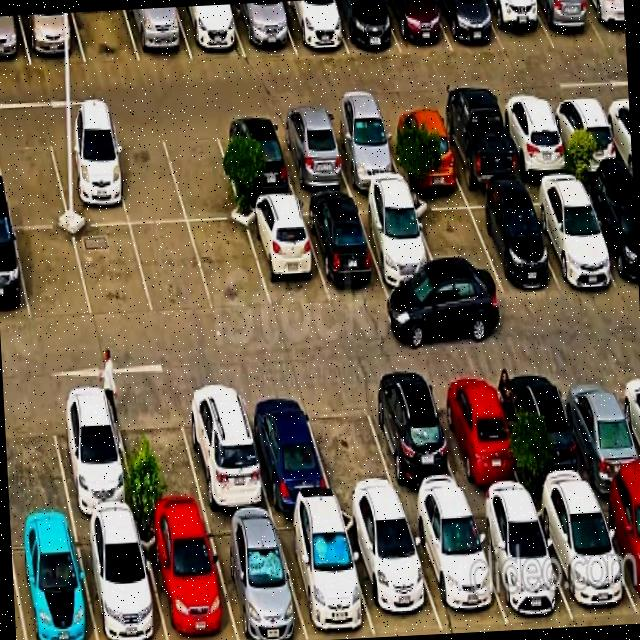empty: (302, 382, 401, 506), (112, 392, 207, 520), (411, 195, 503, 297), (4, 395, 72, 526), (160, 121, 243, 222), (108, 126, 187, 224), (131, 223, 213, 315), (73, 225, 153, 319), (189, 221, 271, 310), (14, 229, 92, 322), (0, 130, 69, 227), (73, 10, 140, 63)
occupied: (532, 493, 640, 627), (362, 376, 467, 507), (405, 503, 508, 630), (274, 511, 375, 640), (469, 500, 573, 625), (341, 509, 443, 635), (205, 516, 308, 640), (429, 372, 527, 501), (177, 383, 272, 515), (139, 518, 238, 640), (503, 369, 595, 497), (240, 386, 334, 511), (48, 393, 139, 521), (75, 521, 167, 640), (557, 367, 640, 492), (524, 182, 619, 287), (11, 524, 96, 640), (465, 191, 558, 293), (300, 198, 388, 302), (355, 197, 446, 297), (244, 202, 329, 309), (47, 128, 129, 226), (436, 105, 521, 187), (215, 118, 296, 201), (580, 180, 639, 290), (273, 115, 352, 196), (496, 99, 574, 179), (325, 113, 405, 191), (381, 109, 462, 186), (595, 488, 640, 618), (548, 97, 624, 173), (176, 4, 246, 60), (330, 0, 401, 54), (482, 0, 554, 53), (279, 0, 348, 55), (126, 7, 192, 62), (385, 0, 452, 54), (435, 0, 504, 52), (231, 2, 296, 57), (532, 0, 604, 48), (20, 13, 85, 66), (0, 225, 30, 324), (583, 0, 626, 45), (0, 15, 31, 67)
